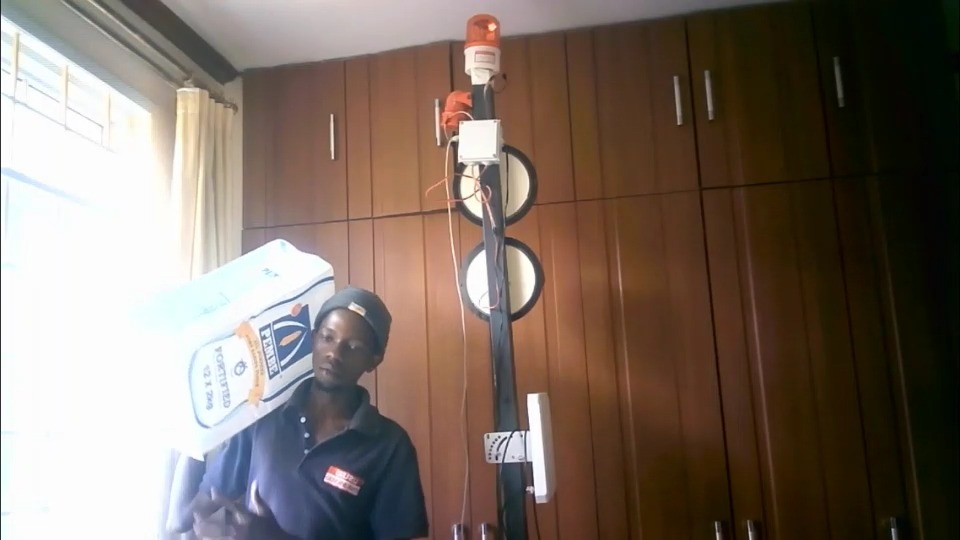wheat_flour_blue_label: (153, 242, 329, 449)
